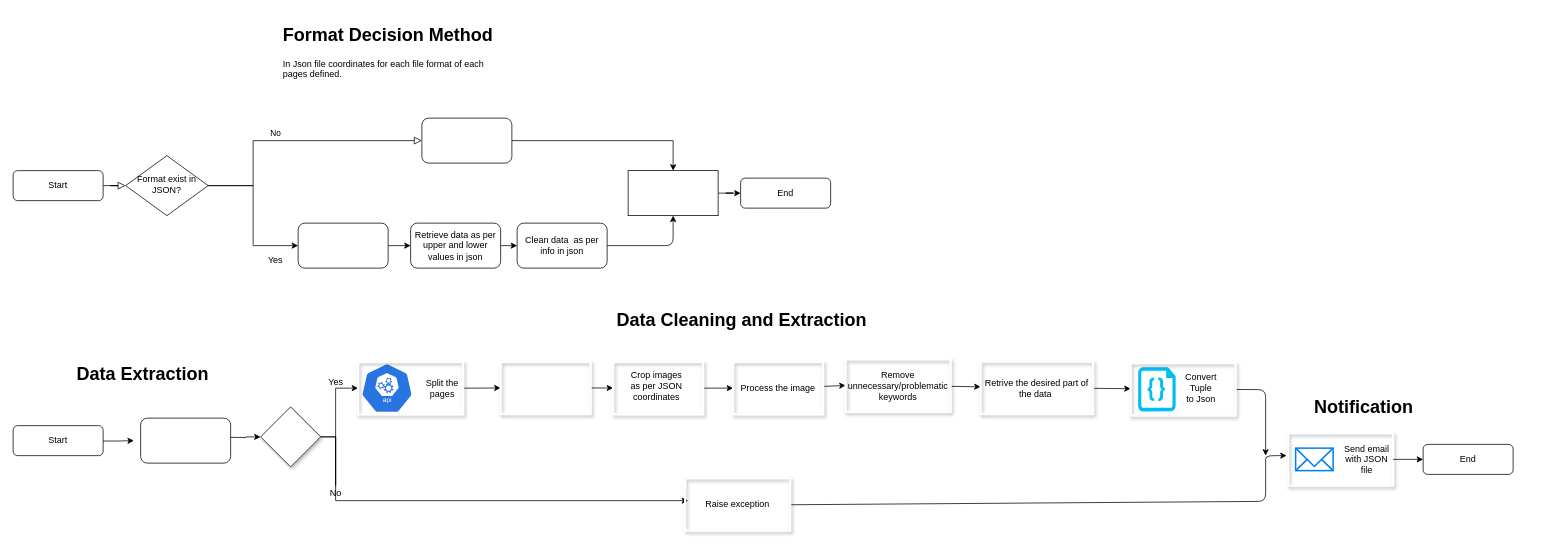
The diagram is 1549 pixels wide and 550 high, and some of its shapes have lost their labels. The centre of each missing label's shape, as x and y in pixels:
"Check if file format exist in JSON?" belongs at (185,440).
"Convert pages to image" belongs at (546,388).
"Crop each page as per coordinates" belongs at (342,245).
"Format exist?" belongs at (291,437).
"Send notification and clarify the new format" belongs at (466,140).
"Send results in email" belongs at (672,193).
